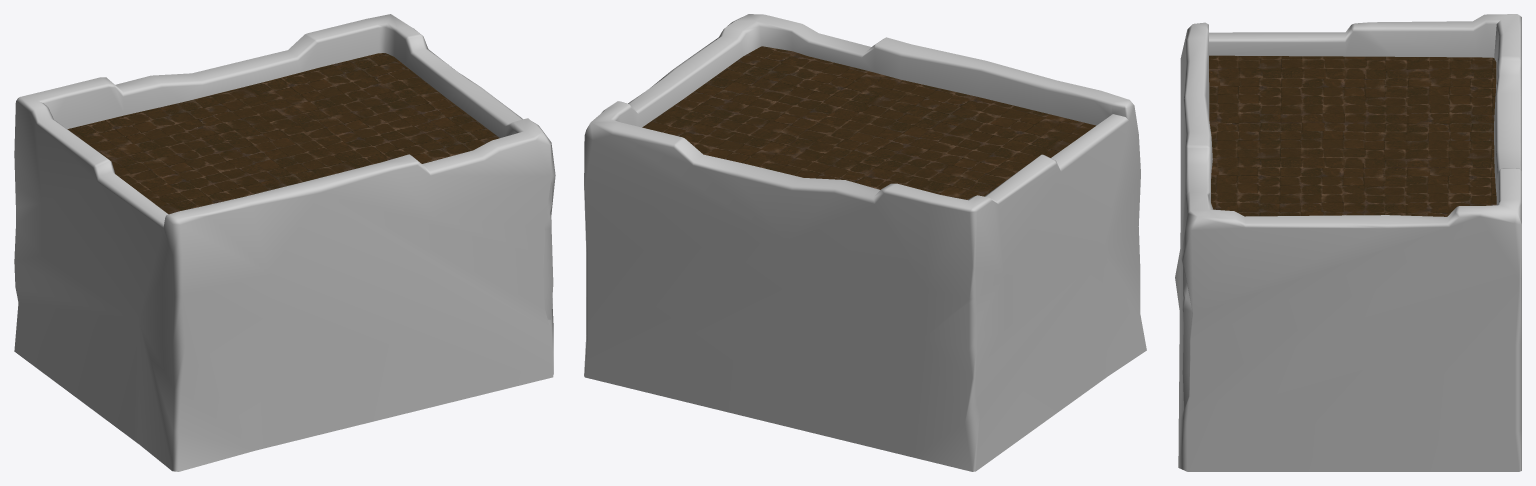
The model's file is lower_city_house_04.fbx.
3 renders of one model, left to right at view 1: azimuth 30°, elevation 25°; view 2: azimuth 150°, elevation 25°; view 3: azimuth 270°, elevation 25°, orthographic. The views are drawn at different scales.
Parts seen in each view (by area): view 1: lower_city_house_04; view 2: lower_city_house_04; view 3: lower_city_house_04.
Part boxes in pixels (bbox=[...]): lower_city_house_04: bbox=[14, 14, 555, 471]; lower_city_house_04: bbox=[584, 14, 1146, 471]; lower_city_house_04: bbox=[1175, 14, 1521, 471].
Size of the model in its own units: 7.39 by 4.66 by 5.51.
